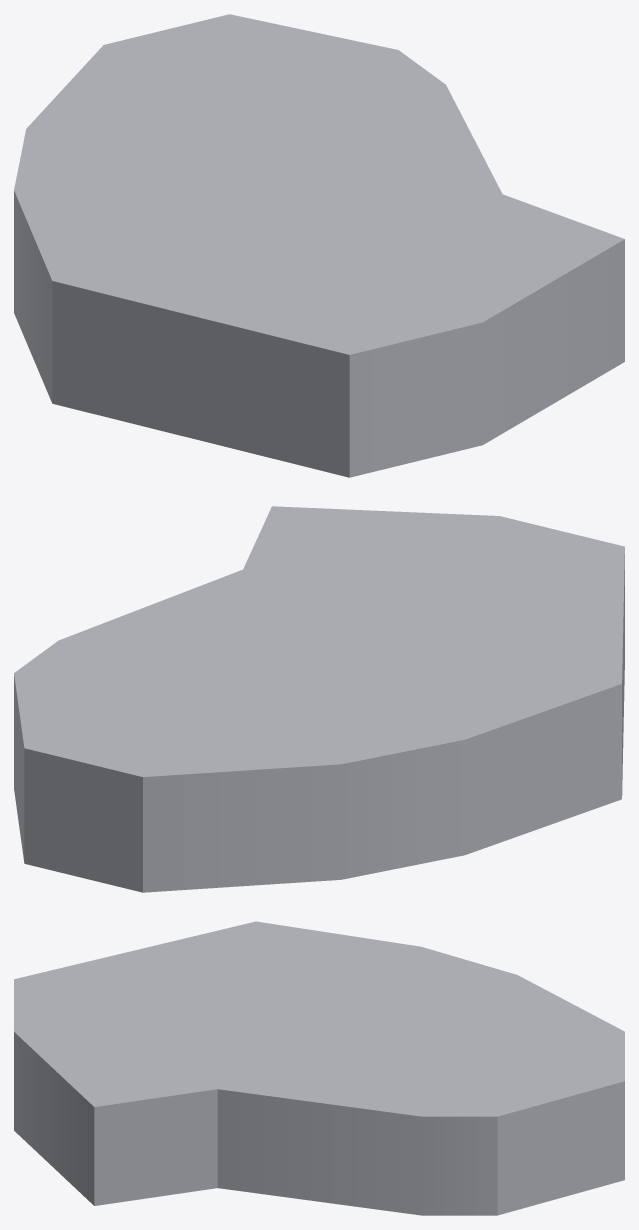
Rendered from Rock_G.fbx.
3 views of the same model, one above another, from view 1: azimuth 30°, elevation 25°; view 2: azimuth 150°, elevation 25°; view 3: azimuth 270°, elevation 25° (orthographic). The views are drawn at different scales.
Visible parts, largest first — view 1: Rock_G; view 2: Rock_G; view 3: Rock_G.
Part boxes in pixels (x1,y1,x2,y2): Rock_G: (14, 14, 624, 477); Rock_G: (14, 506, 624, 892); Rock_G: (14, 921, 624, 1215).
Bounding box in the file's own units: 90.37 × 21.37 × 120.
